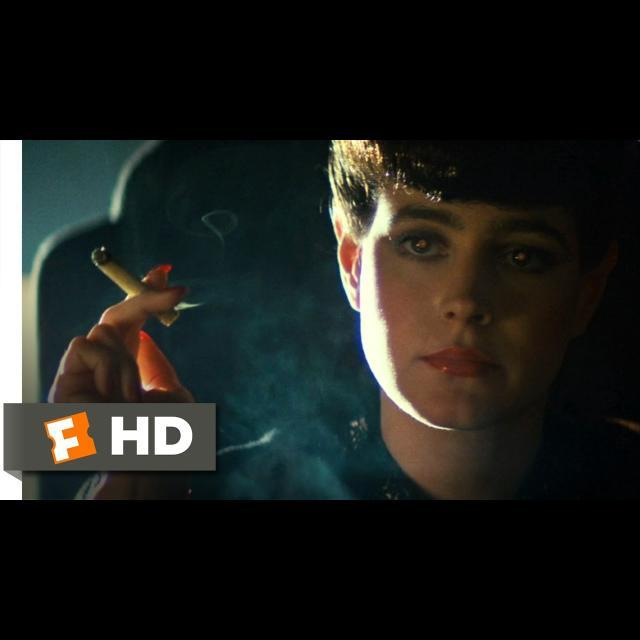rokok: (89, 248, 178, 326)
